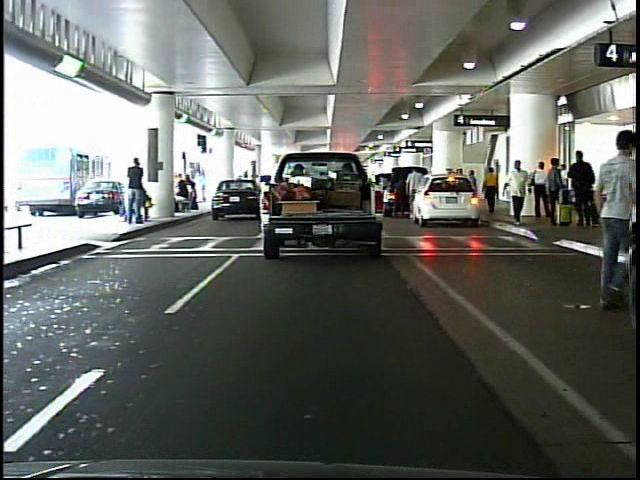person: (570, 144, 598, 232), (505, 156, 537, 230), (600, 161, 634, 221), (128, 158, 151, 228), (404, 164, 428, 220), (546, 156, 564, 228), (531, 161, 551, 222), (484, 163, 502, 217)
